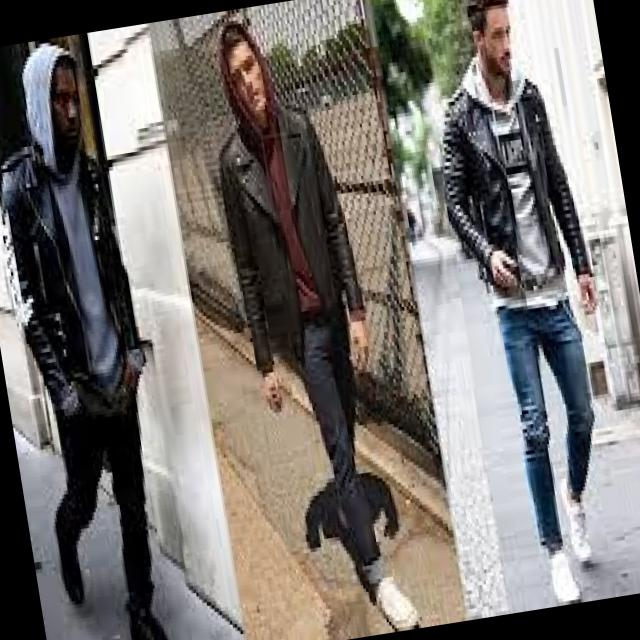Jacket: (422, 41, 612, 320), (207, 98, 373, 372), (0, 142, 149, 406)
